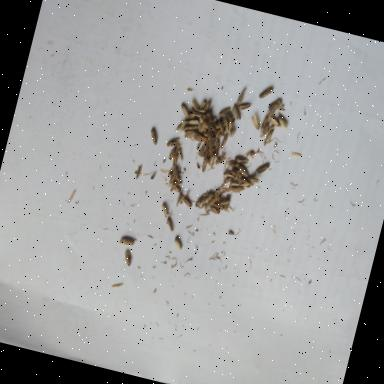pbw: (219, 127, 236, 151), (164, 208, 178, 232), (266, 96, 282, 116), (158, 203, 174, 220), (168, 164, 180, 186), (168, 142, 181, 162), (274, 114, 290, 130), (255, 160, 270, 177), (236, 86, 247, 108), (230, 103, 243, 121), (228, 183, 246, 196), (174, 117, 188, 133), (258, 85, 272, 101), (178, 103, 192, 119), (214, 152, 228, 168), (249, 113, 262, 130), (225, 116, 236, 136), (258, 121, 270, 139), (122, 248, 134, 266), (195, 191, 207, 209), (148, 128, 160, 146), (209, 188, 220, 207), (237, 99, 253, 112), (208, 150, 218, 170), (166, 135, 180, 149), (182, 128, 196, 142), (222, 172, 236, 186), (196, 116, 210, 130), (179, 194, 193, 208), (218, 104, 231, 119), (182, 122, 198, 134), (166, 170, 182, 182), (232, 169, 244, 185), (192, 132, 208, 144), (268, 116, 282, 129), (198, 140, 208, 158), (259, 114, 269, 132), (211, 138, 221, 156), (220, 112, 231, 128), (214, 122, 226, 136), (236, 166, 250, 178), (222, 194, 231, 212), (206, 136, 216, 152), (118, 237, 134, 247), (175, 192, 185, 208), (264, 128, 274, 144), (172, 237, 184, 250), (268, 103, 278, 118), (234, 154, 249, 164), (205, 205, 220, 215), (189, 98, 201, 110), (200, 156, 208, 174), (226, 159, 240, 169), (264, 123, 274, 137), (134, 163, 142, 180), (170, 178, 182, 189), (202, 192, 213, 204), (228, 179, 242, 188), (170, 183, 182, 193), (218, 198, 230, 208), (222, 119, 230, 134), (175, 148, 184, 161), (246, 176, 260, 184), (222, 170, 236, 178), (198, 120, 206, 134), (212, 202, 225, 210), (191, 110, 204, 118), (212, 132, 222, 142), (209, 194, 220, 203), (187, 118, 199, 126), (199, 98, 207, 110), (230, 166, 239, 176), (206, 114, 214, 125), (203, 100, 210, 112), (172, 152, 178, 166), (207, 124, 217, 132)
